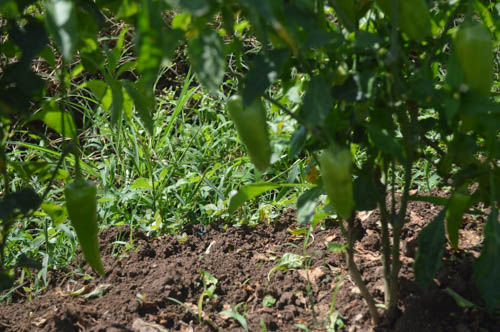ChiliPepper: (65, 181, 106, 278), (454, 24, 492, 123), (227, 94, 273, 171), (322, 148, 354, 219), (442, 192, 470, 255)
